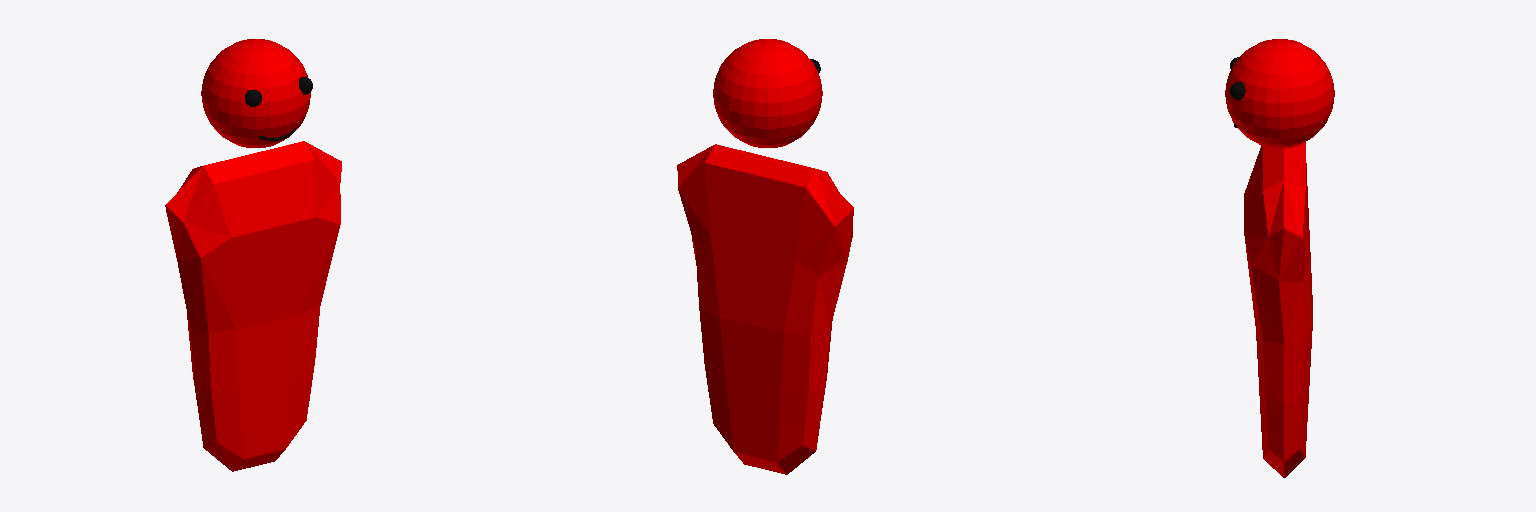
The model's file is people_man.obj.
3 views of the same model, side by side, from view 1: azimuth 30°, elevation 25°; view 2: azimuth 150°, elevation 25°; view 3: azimuth 270°, elevation 25° (orthographic).
Visible parts, largest first — view 1: people_001, people_002; view 2: people_001; view 3: people_001.
Part boxes in pixels (left/top/right/bottom): people_001: left=165, top=39, right=341, bottom=471; people_002: left=245, top=77, right=312, bottom=140; people_001: left=677, top=39, right=853, bottom=474; people_001: left=1225, top=39, right=1334, bottom=477.
Bounding box in the file's own units: 7.21 × 16.5 × 3.88.